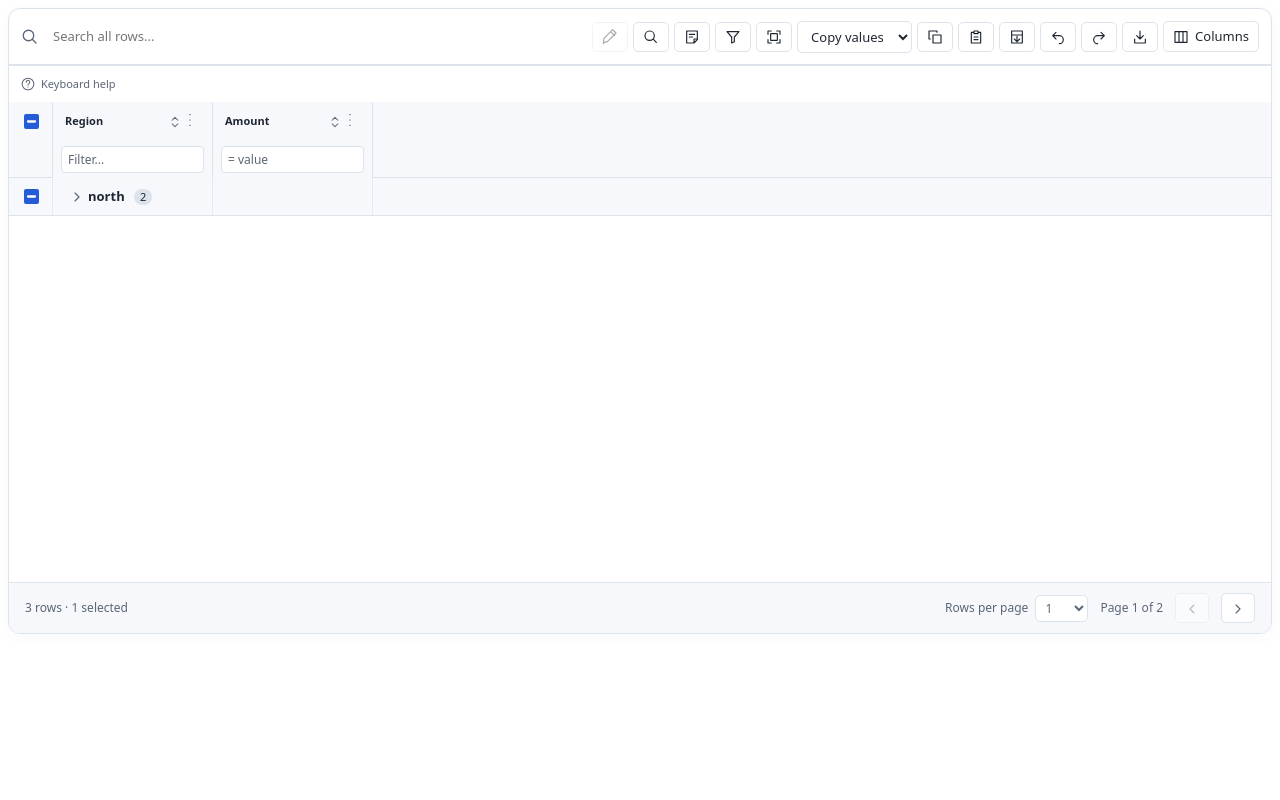
Test: resident hierarchy selection UI › restores native mixed state after a rejected click and recovers on the next action
Click the checkbox named "Select subtree north" at x=31, y=196, box x1=24 y1=189 x2=38 y2=204
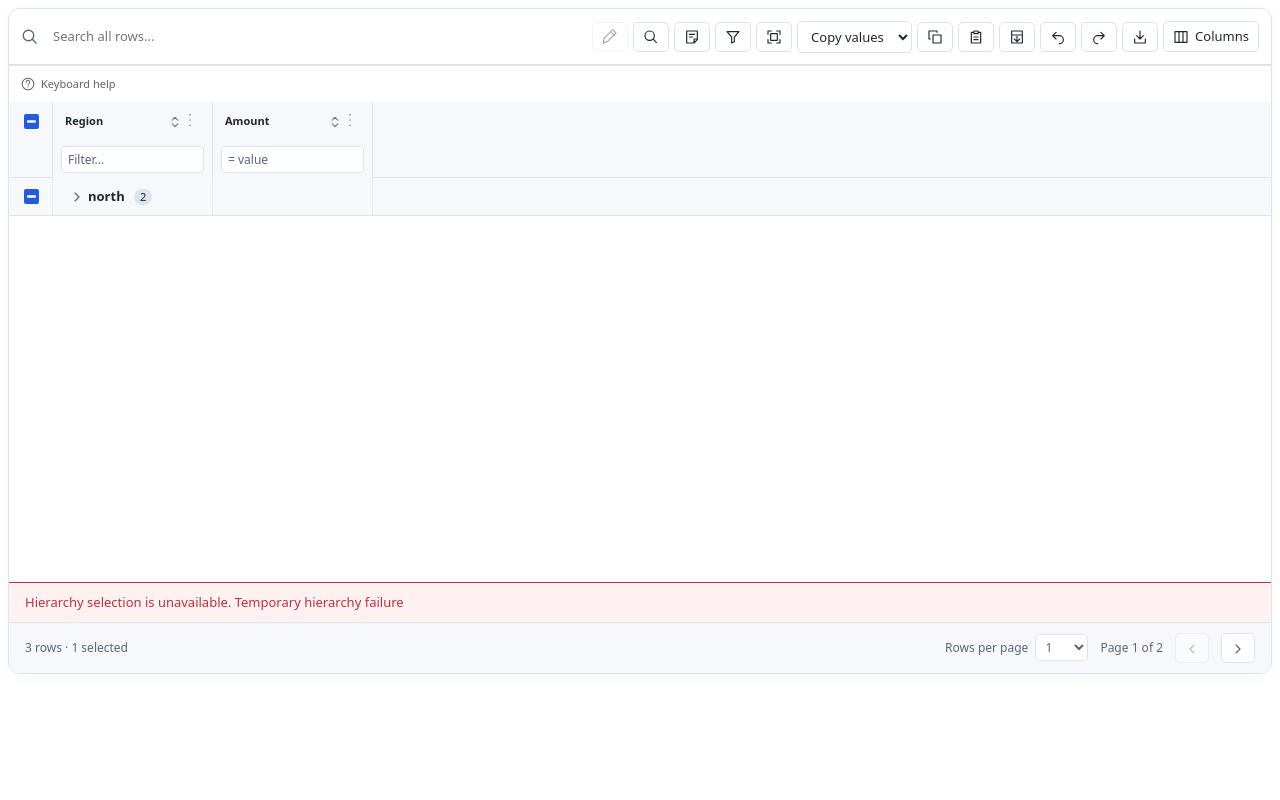
Result: the message shows "Temporary hierarchy failure" at x1=235 y1=593 x2=404 y2=611
Click the checkbox named "Select subtree north" at x=31, y=196, box x1=24 y1=189 x2=38 y2=204
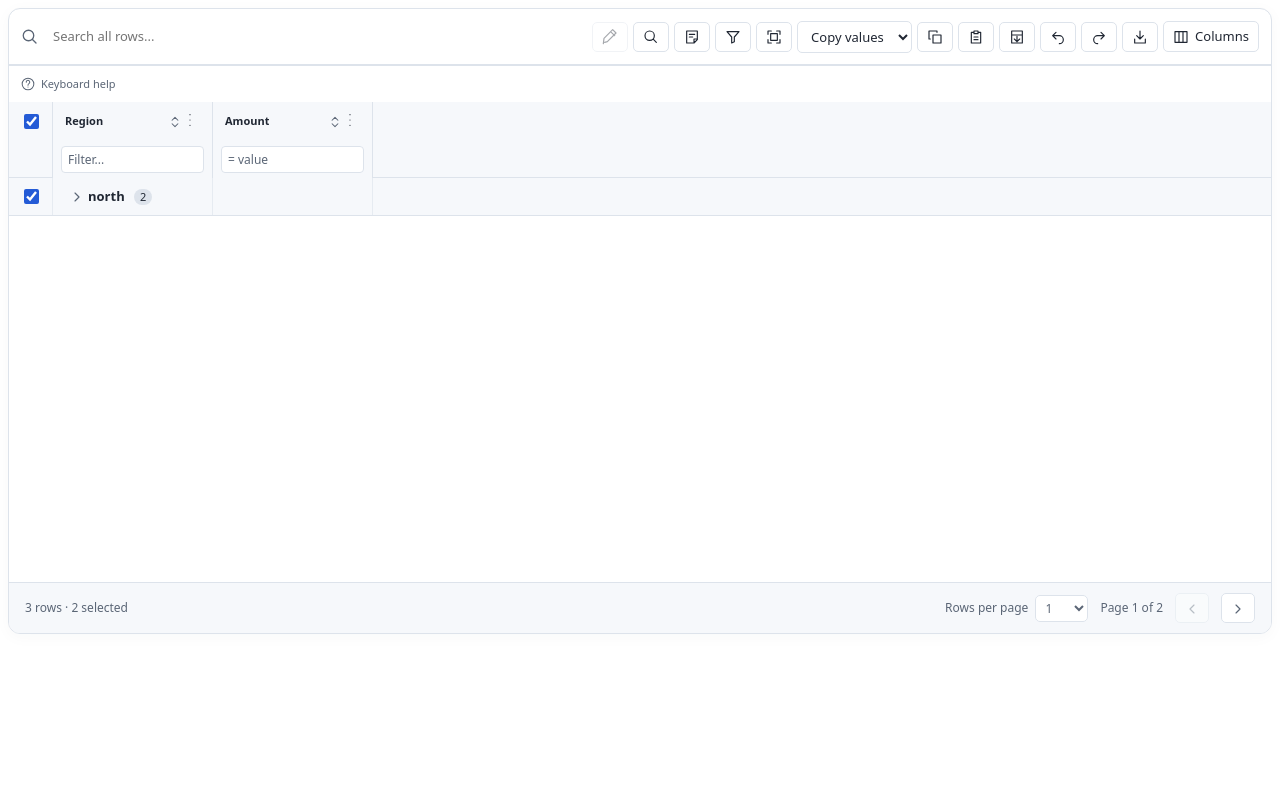
Result: the checkbox named "Select subtree north" is checked at x1=24 y1=189 x2=38 y2=204
Result: the message "Hierarchy selection is unavailable. Temporary hierarchy failure" is gone
